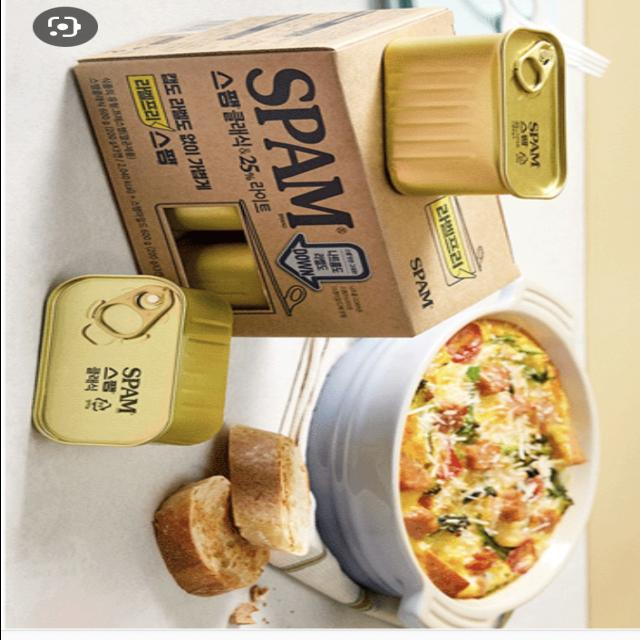can: (30, 275, 254, 451), (377, 17, 577, 209)
